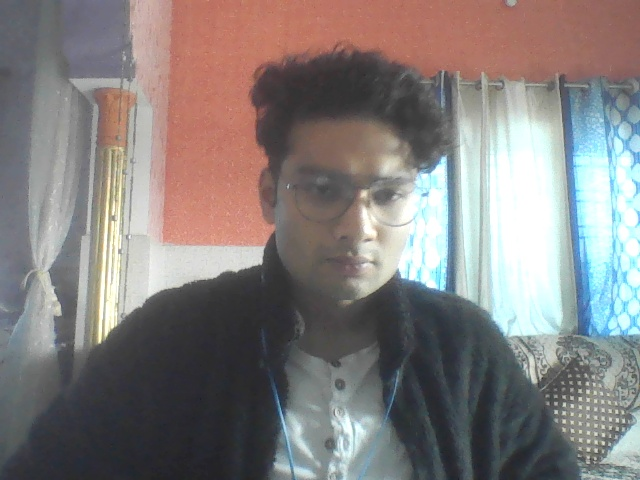real: (251, 58, 437, 321)
